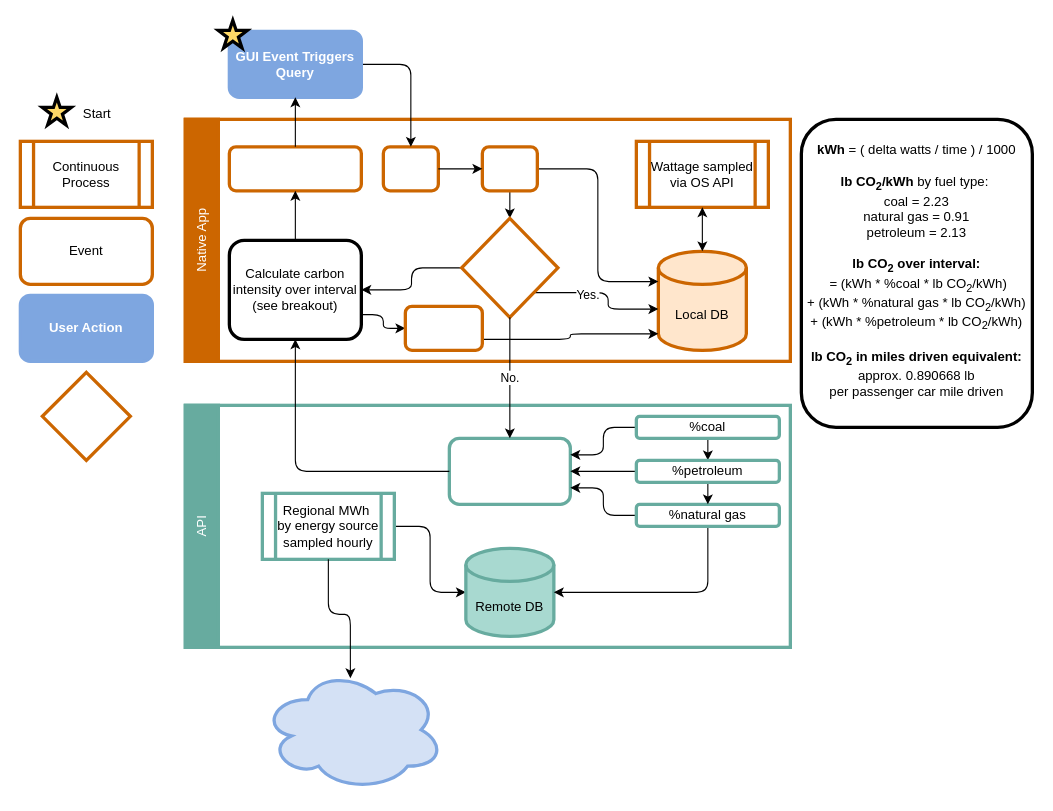
Some shapes in this 1053 by 811 pixel diagram are drawn without their labels. Each missing label, with the centre of its shape:
"Cache grid data" belongs at (x=443, y=327).
"Decision" belongs at (x=85, y=415).
"Display result" belongs at (x=294, y=168).
"Energy Information Administration API" belongs at (x=352, y=729).
"Get fuel mix over interval" belongs at (x=509, y=470).
"Get time" belongs at (x=410, y=168).
"Get wattage" belongs at (x=509, y=168).
"Grid data cached?" belongs at (x=509, y=267).
